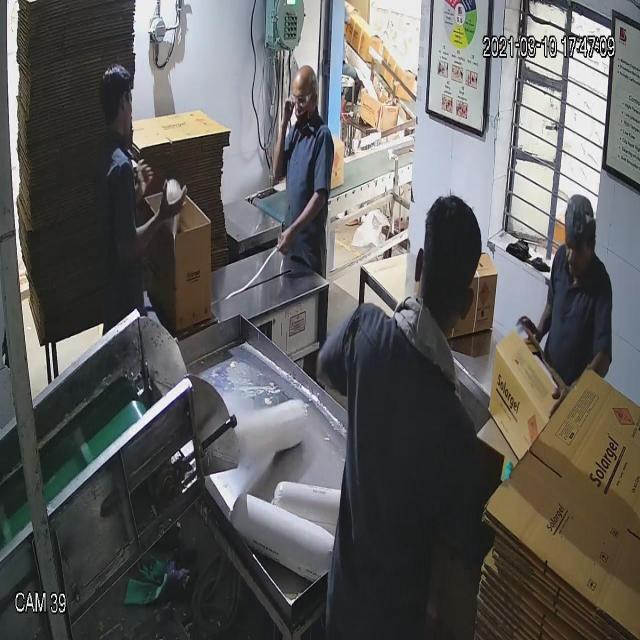No_Gloves: (33, 74, 301, 227)
